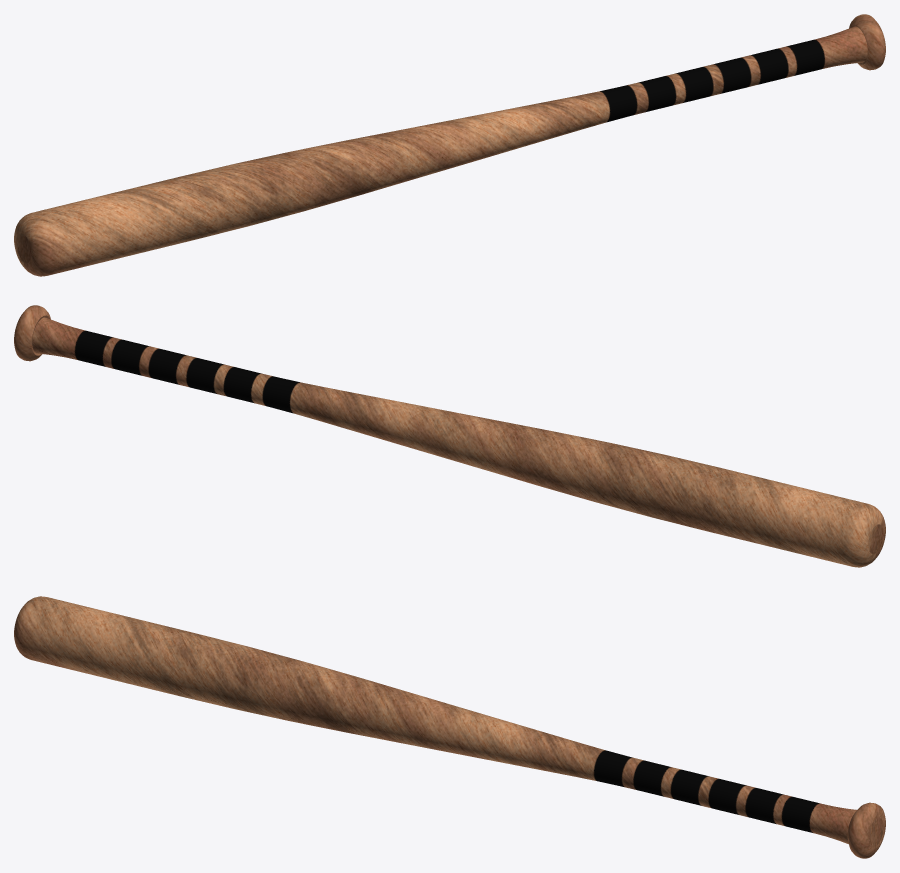
The model's file is asset.glb.
The picture shows the model from 3 angles, top to bottom: view 1: azimuth 30°, elevation 25°; view 2: azimuth 150°, elevation 25°; view 3: azimuth 330°, elevation 25°; orthographic projection.
Visible parts, largest first — view 1: Cylinder; view 2: Cylinder; view 3: Cylinder.
Boxes of the visible parts, x1,y1,x2,y2 form: Cylinder: (14, 14, 885, 276); Cylinder: (14, 305, 885, 567); Cylinder: (14, 596, 885, 858).
Bounding box in the file's own units: 1.03 × 0.068 × 0.068.
1 material, 1 textured.
